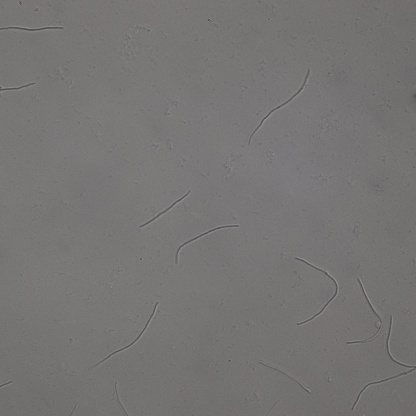Sensitive: (353, 316, 416, 409), (247, 67, 311, 144), (95, 299, 160, 367), (296, 256, 340, 326), (175, 220, 241, 261), (346, 274, 383, 346), (141, 188, 191, 228), (261, 361, 309, 392), (1, 23, 64, 33)
